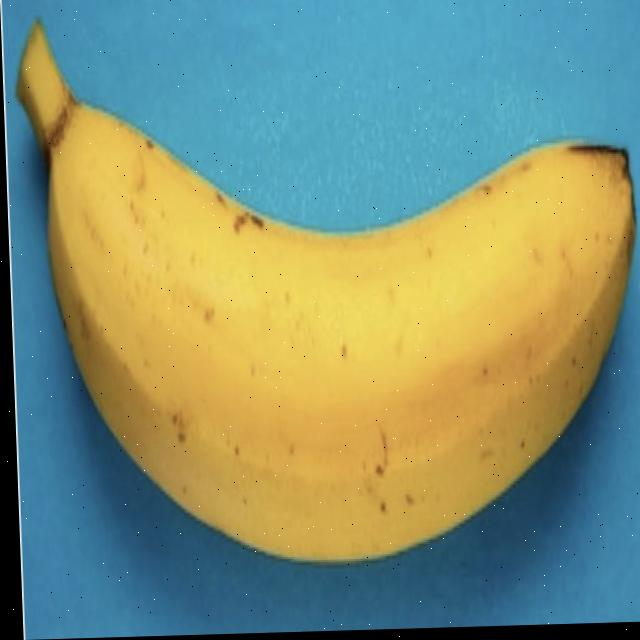banana: (29, 100, 640, 600)
